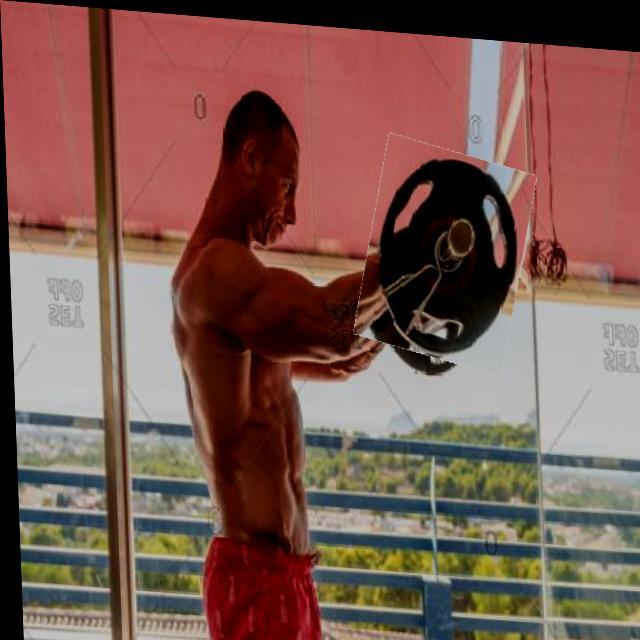barbell: (356, 131, 532, 364)
